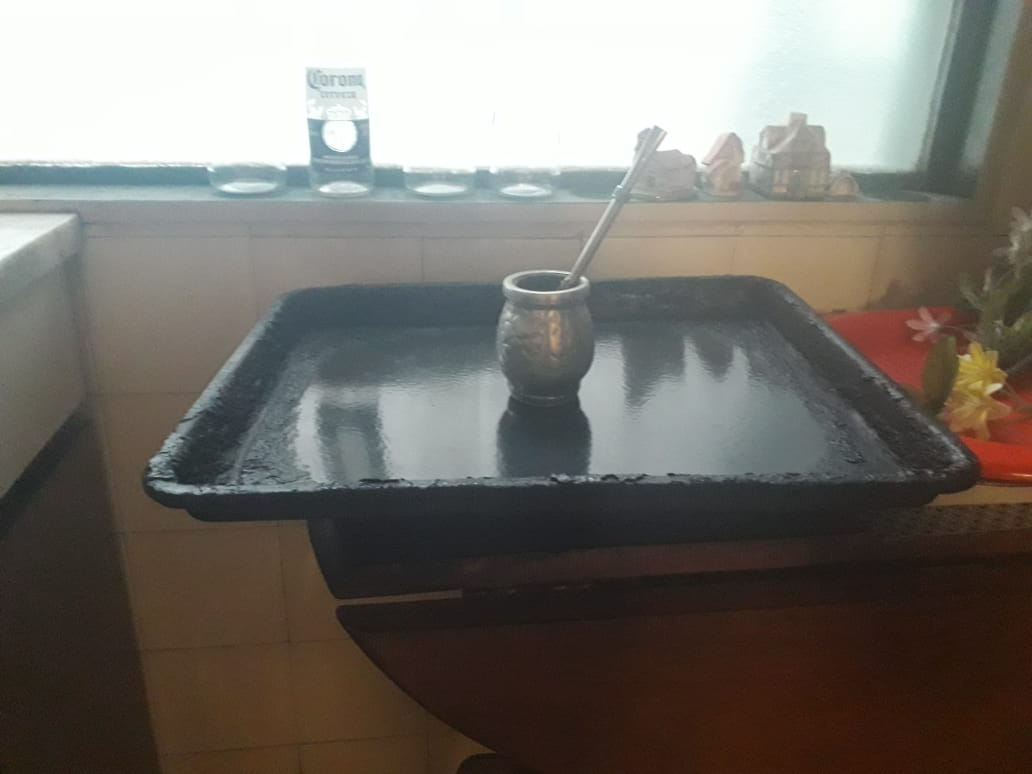mate: (495, 127, 676, 409)
metal: (493, 125, 674, 407)
